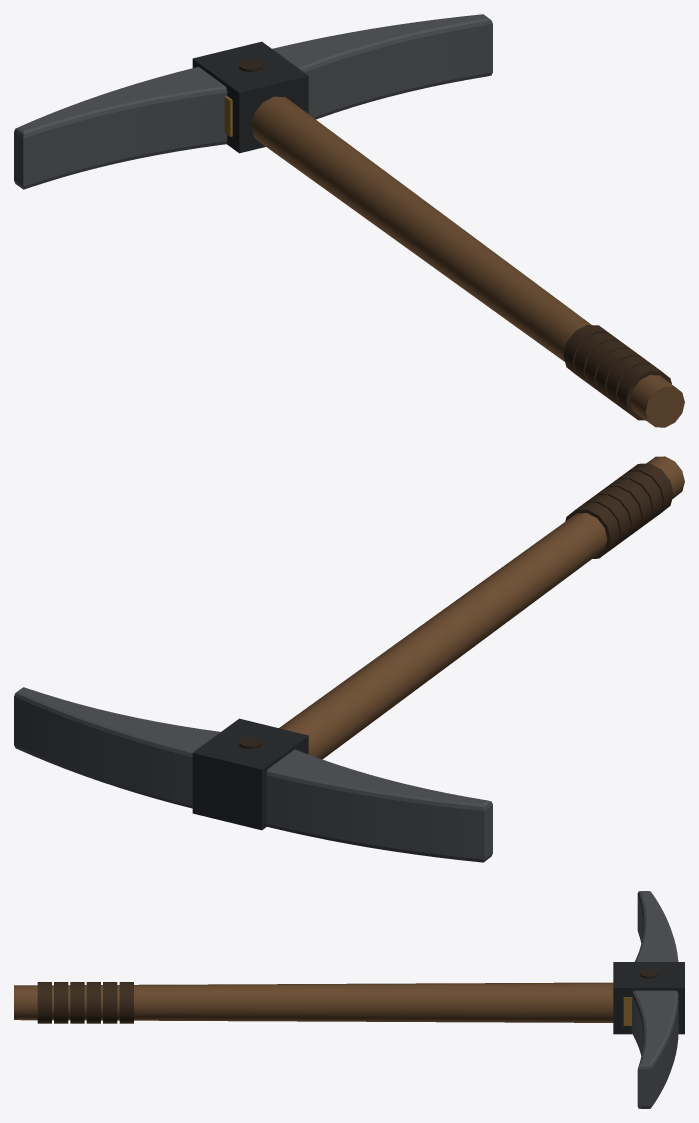
The model's file is dwarf-pickaxe.glb.
3 views of the same model, one above another, from view 1: azimuth 30°, elevation 25°; view 2: azimuth 150°, elevation 25°; view 3: azimuth 270°, elevation 25° (orthographic). The views are drawn at different scales.
Parts seen in each view (by area): view 1: pickIron, handle, iron; view 2: pickIron, handle, iron; view 3: handle, pickIron, iron.
Boxes of the visible parts, x1=… form: pickIron: x1=14, y1=14, x2=492, y2=189; handle: x1=251, y1=96, x2=684, y2=427; iron: x1=192, y1=41, x2=308, y2=153; pickIron: x1=14, y1=687, x2=492, y2=862; handle: x1=279, y1=456, x2=684, y2=759; iron: x1=192, y1=718, x2=308, y2=830; handle: x1=14, y1=982, x2=613, y2=1023; pickIron: x1=631, y1=891, x2=678, y2=1108; iron: x1=613, y1=962, x2=684, y2=1034.
Bounding box in the file's own units: 0.406 × 0.053 × 0.655.
